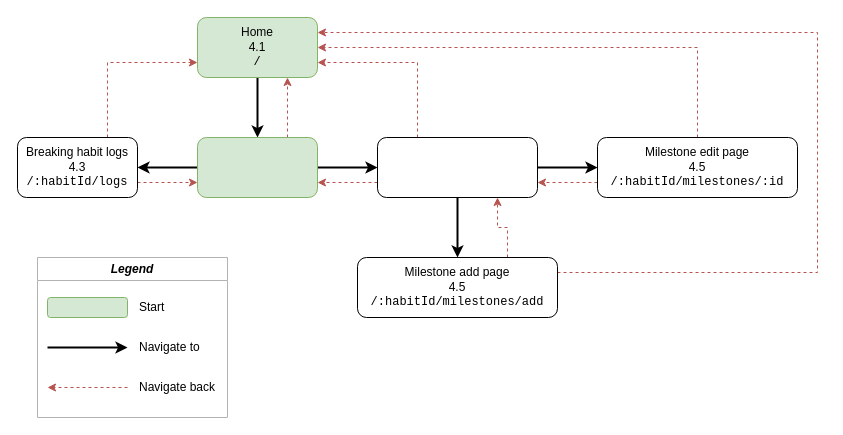
This 843x435 diagram has some shape labels left out. The shapes that lost their labels are listed below. From the top down, each one's centre as x and y in pixels, then its label:
point (257, 167): Habit preview 4.2 /:habitId
point (457, 167): Milestones list page 4.4 /:habitId/milestones
